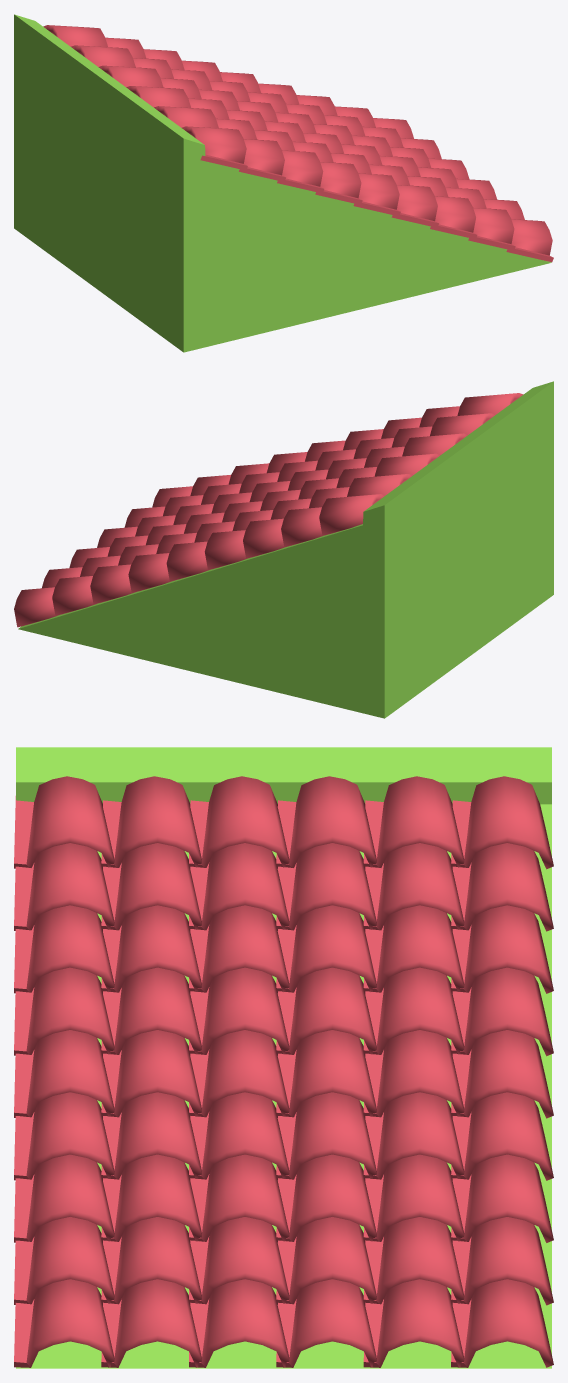
The model's file is TejadoDe3.fbx.
The picture shows the model from 3 angles, top to bottom: view 1: azimuth 30°, elevation 25°; view 2: azimuth 150°, elevation 25°; view 3: azimuth 270°, elevation 25°; orthographic projection. The views are drawn at different scales.
Parts seen in each view (by area): view 1: Cube.016, Tejado.001; view 2: Cube.016, Tejado.001; view 3: Tejado.001, Cube.016.
Boxes of the visible parts, x1,y1,x2,y2 form: Cube.016: (14, 14, 551, 352); Tejado.001: (43, 25, 553, 262); Cube.016: (18, 381, 553, 718); Tejado.001: (14, 393, 523, 627); Tejado.001: (14, 776, 553, 1367); Cube.016: (16, 747, 551, 1368).
Bounding box in the file's own units: 493 × 267 × 386.
